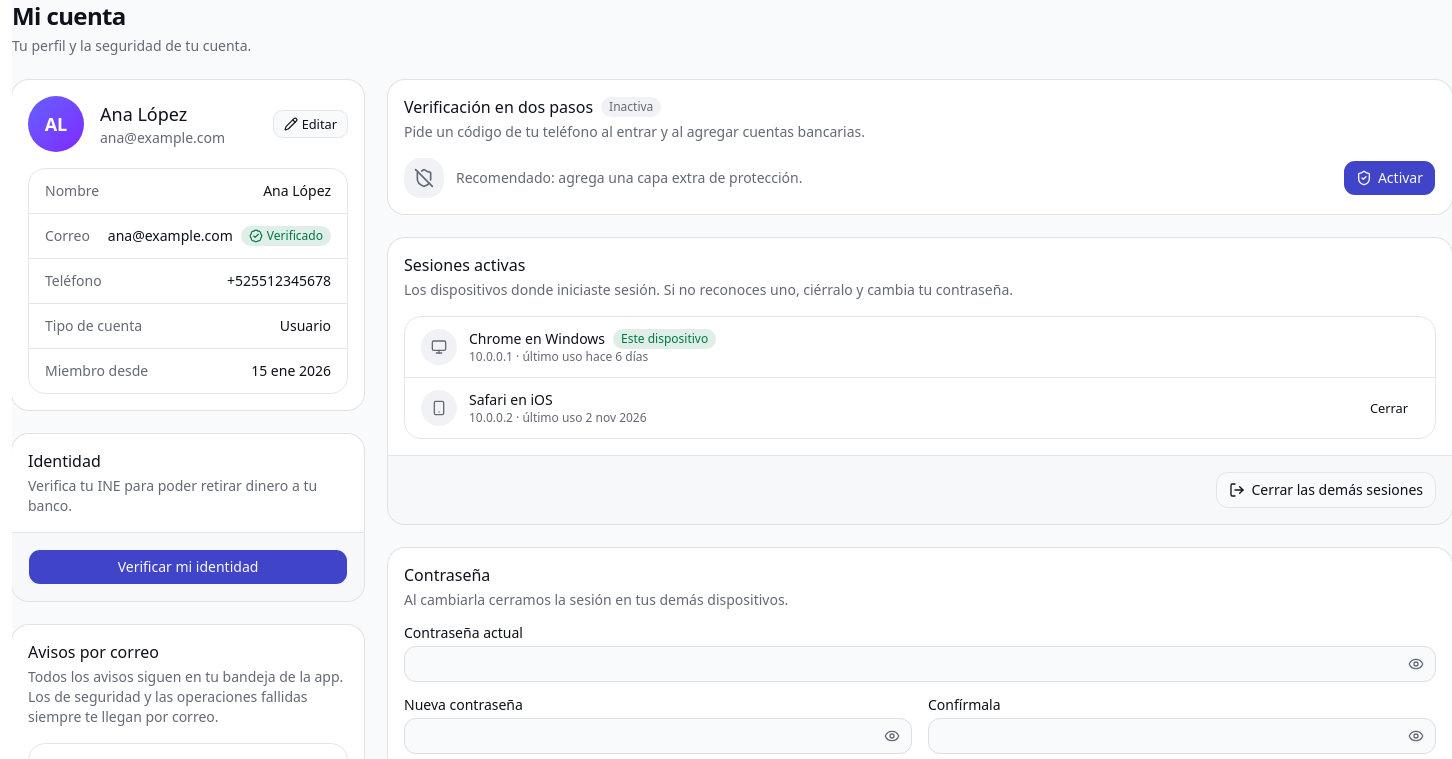
it: SettingsPage › password › marks the current password when it is wrong
Type "equivocada" into the password field labelled "Contraseña actual". click: [920, 664]
box: [404,646,1436,682]
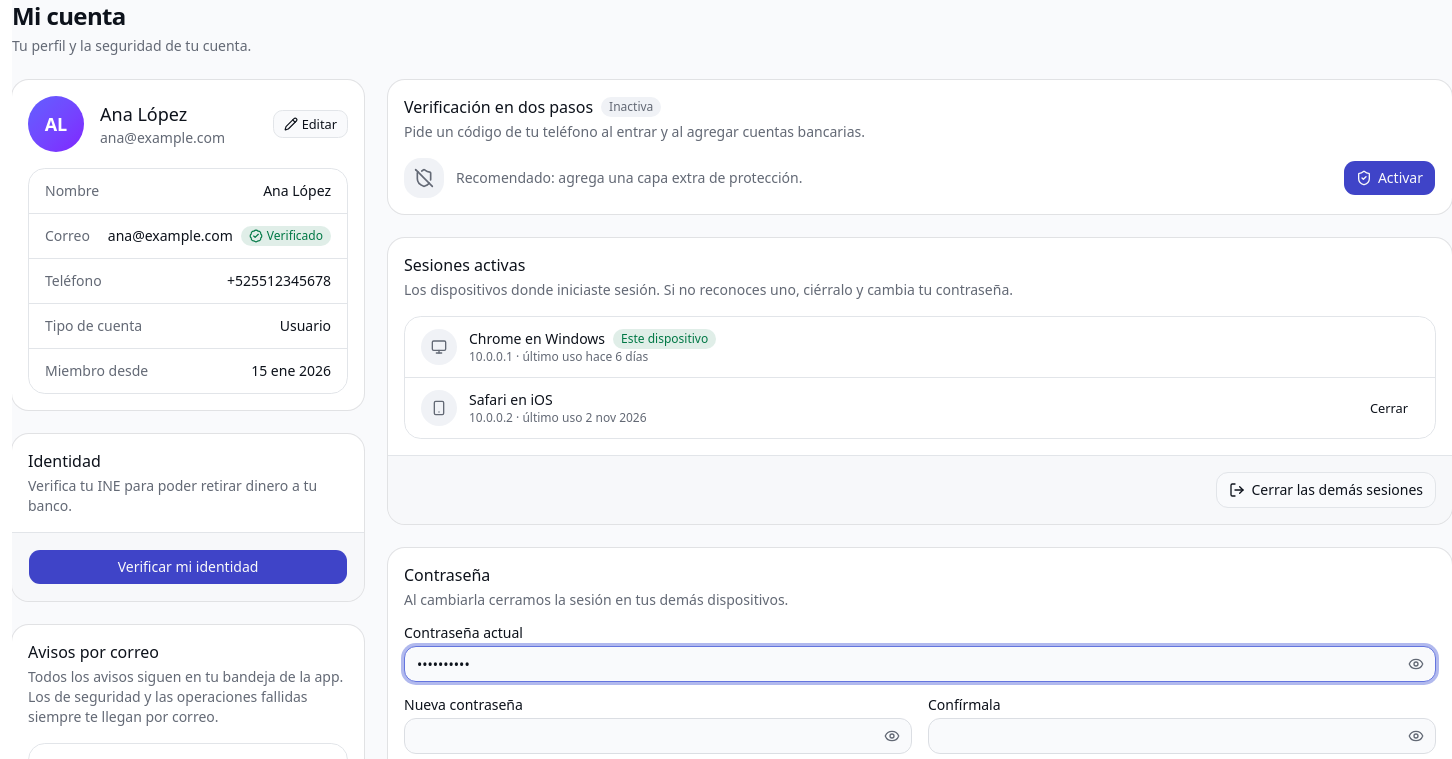
Type "nueva frase muy larga" into the password field labelled "Nueva contraseña". click: [658, 736]
box: [404,718,912,754]
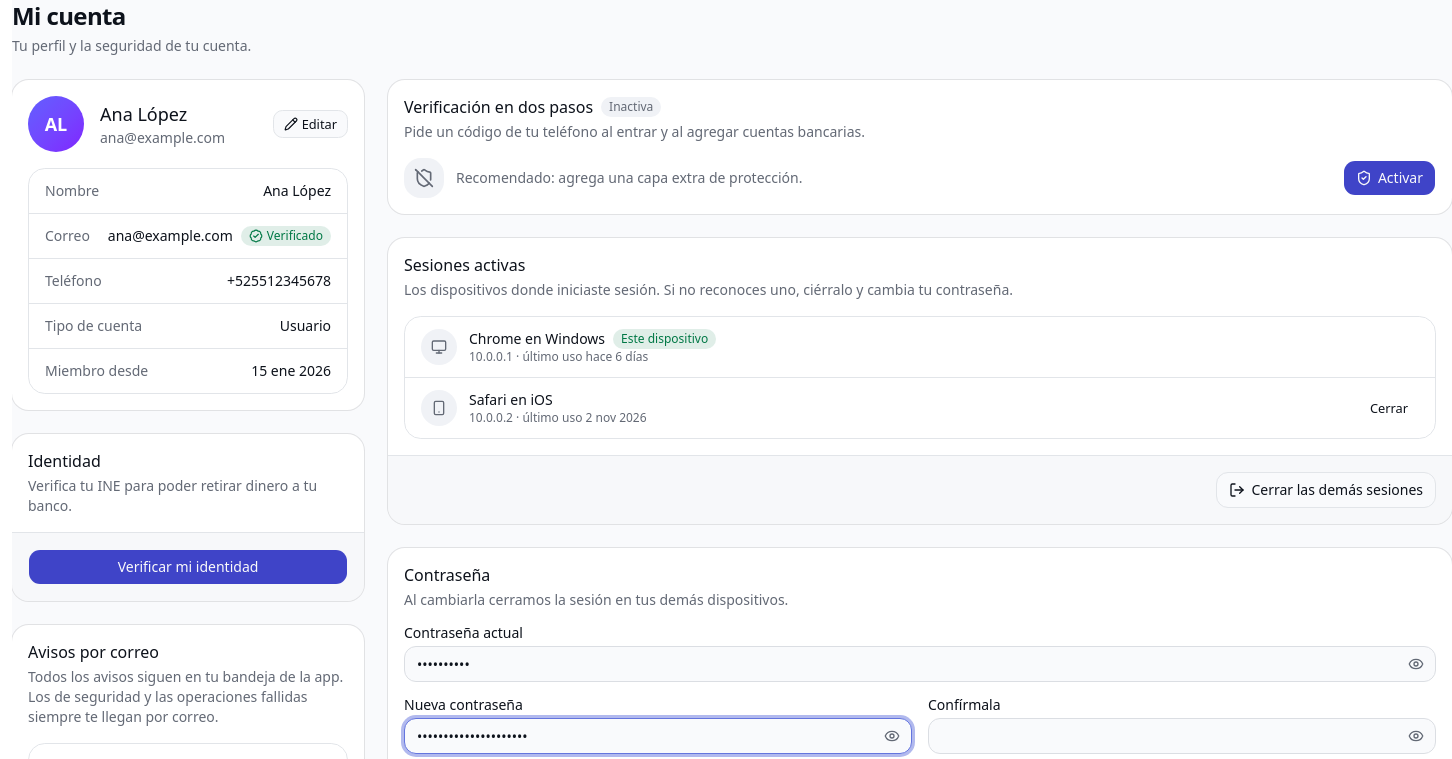
Type "nueva frase muy larga" into the password field labelled "Confírmala". click: [1182, 736]
box: [928,718,1436,754]
(page scrolled)
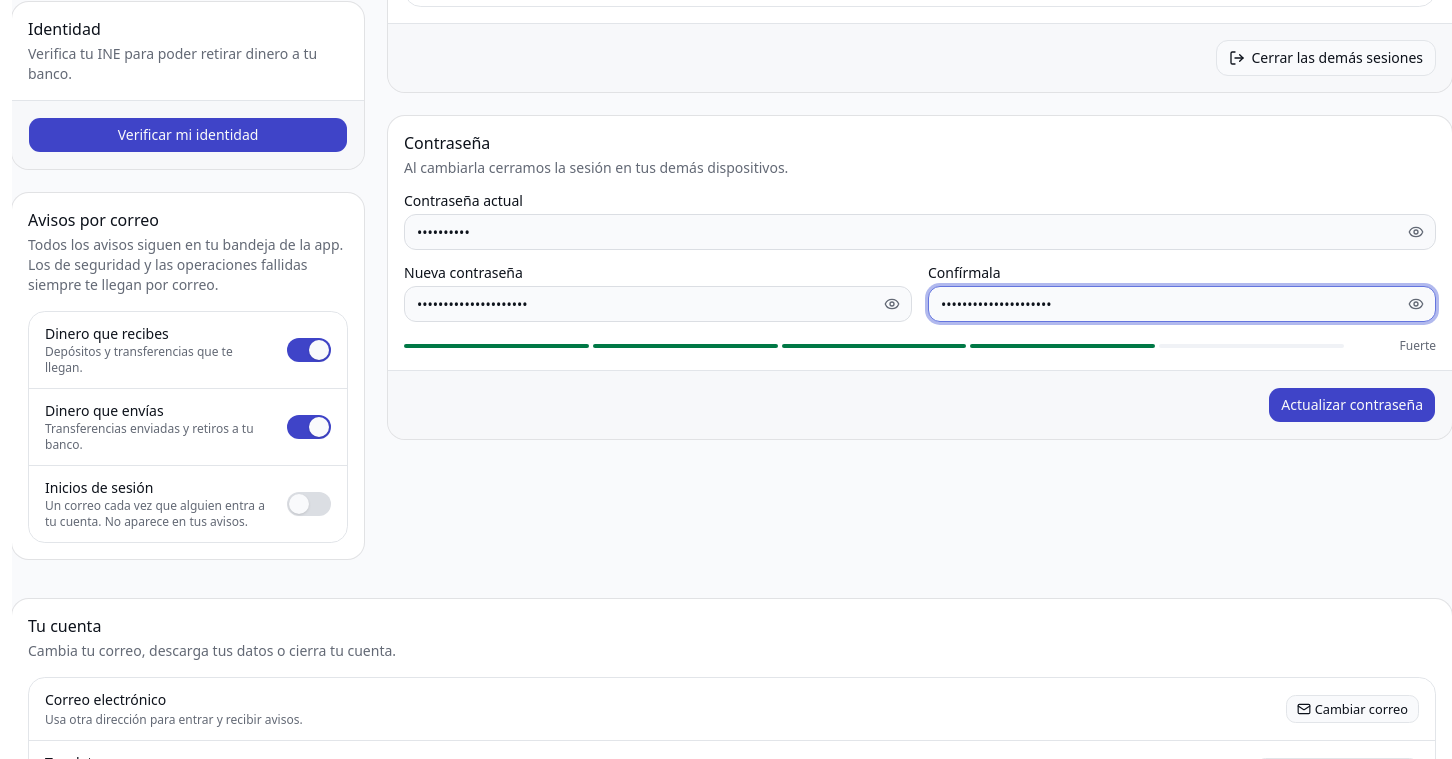
Click the button "Actualizar contraseña". click: [1352, 405]
box: [1268,387,1436,423]
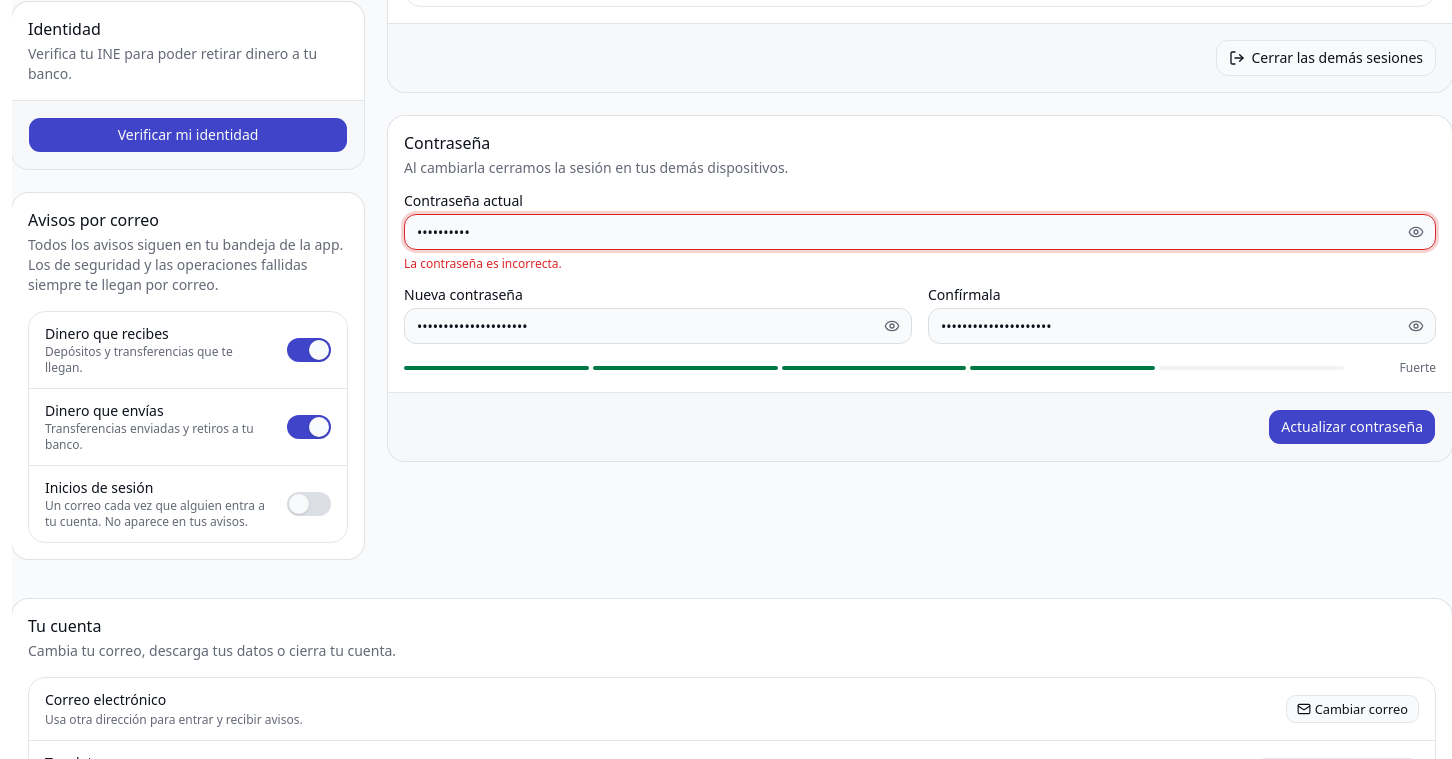
Result: the text "La contraseña es incorrecta." is shown at [404,255,562,272]
